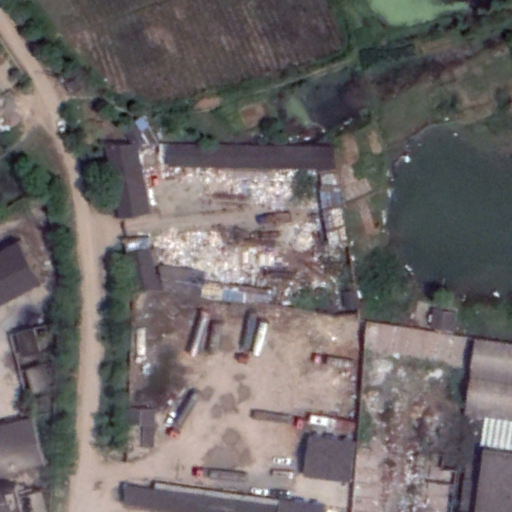msw: (151, 173, 319, 285)
